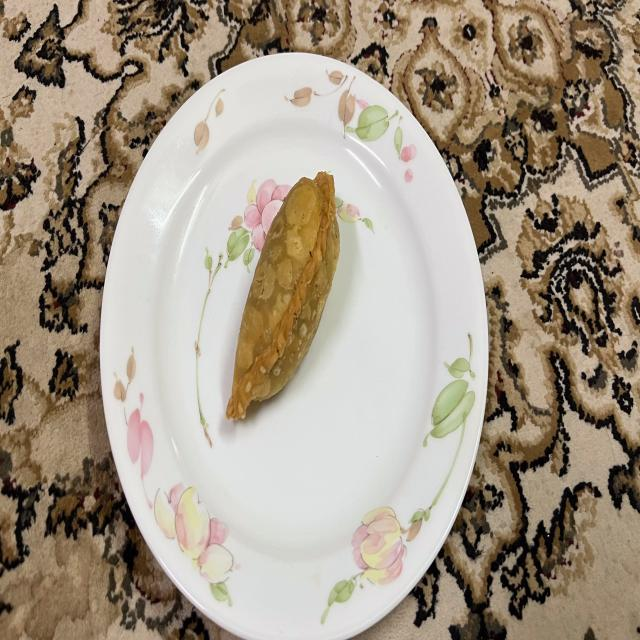karipap: (226, 171, 340, 420)
